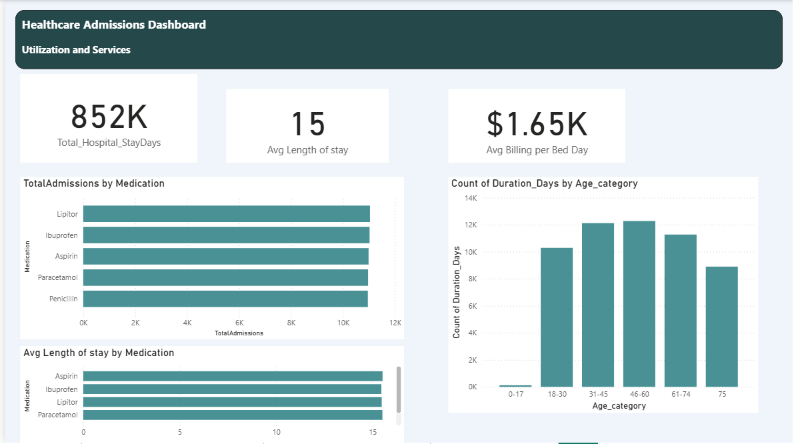

The page's visual inventory and layout, read from the dashboard file:
{"tool":"powerbi","page":{"name":"Utilization and services","canvas":[1280,720],"ordinal":2},"visuals":[{"type":"card","fields":{"Values":["_Measures.Total_Hospital_StayDays"]},"box":[24,120,288,144],"z":0},{"type":"card","fields":{"Values":["_Measures.Avg Length of stay"]},"box":[360,144,264,120],"z":1000},{"type":"card","fields":{"Values":["_Measures.Avg Billing per Bed Day"]},"box":[720,144,288,120],"z":2000},{"type":"barChart","fields":{"Category":["FactAdmissions.Medication"],"Y":["_Measures.TotalAdmissions"]},"box":[24,288,624,264],"z":3000},{"type":"barChart","fields":{"Category":["FactAdmissions.Medication"],"Y":["_Measures.Avg Length of stay"]},"box":[24,562,624,158],"z":4000},{"type":"columnChart","fields":{"Category":["FactAdmissions.Age_category"],"Y":["CountNonNull(FactAdmissions.Duration_Days)"]},"box":[720,288,504,384],"z":5000},{"type":"textbox","box":[16,16,1248,96],"z":6001}]}

Visuals, with their boxes in screenshot pixels (x1, y1, x2, y2), scaled from the page's 1280x720 canvas onto the 793x444 screenshot:
card - _Measures.Total_Hospital_StayDays: region(15, 74, 193, 163)
card - _Measures.Avg Length of stay: region(223, 89, 387, 163)
card - _Measures.Avg Billing per Bed Day: region(446, 89, 624, 163)
barChart - FactAdmissions.Medication x _Measures.TotalAdmissions: region(15, 178, 401, 340)
barChart - FactAdmissions.Medication x _Measures.Avg Length of stay: region(15, 347, 401, 443)
columnChart - FactAdmissions.Age_category x CountNonNull(FactAdmissions.Duration_Days): region(446, 178, 758, 414)
textbox: region(10, 10, 783, 69)
